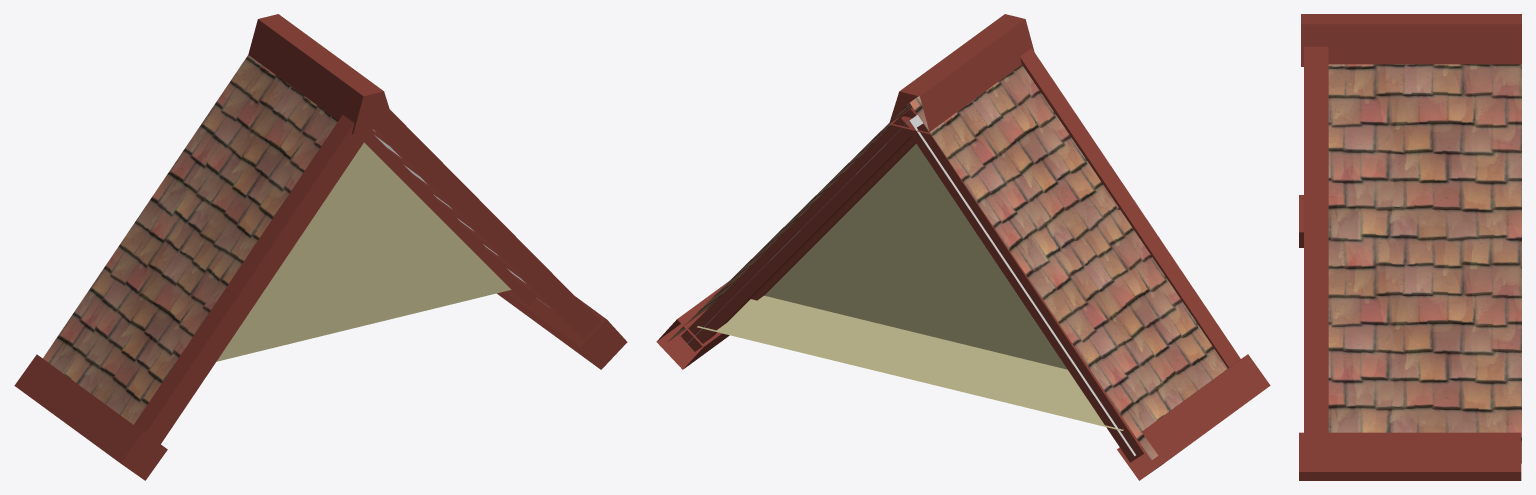
Rendered from roof_10x6x4_head.fbx.
3 renders of one model, left to right at view 1: azimuth 30°, elevation 25°; view 2: azimuth 150°, elevation 25°; view 3: azimuth 270°, elevation 25°, orthographic. The views are drawn at different scales.
Parts seen in each view (by area): view 1: roof_10x6x4_head; view 2: roof_10x6x4_head; view 3: roof_10x6x4_head.
Part boxes in pixels (bbox=[...]): roof_10x6x4_head: bbox=[14, 14, 627, 480]; roof_10x6x4_head: bbox=[656, 14, 1270, 480]; roof_10x6x4_head: bbox=[1299, 14, 1521, 480].
Bounding box in the file's own units: 1192 × 743 × 433.
